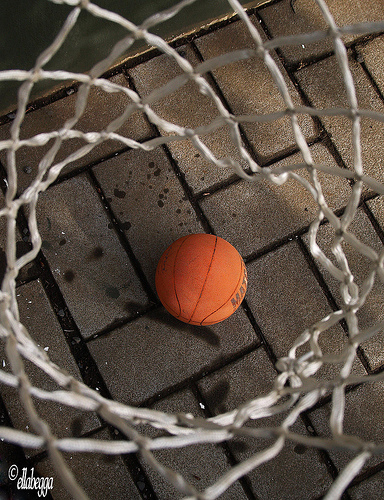basketball: (154, 233, 247, 326)
